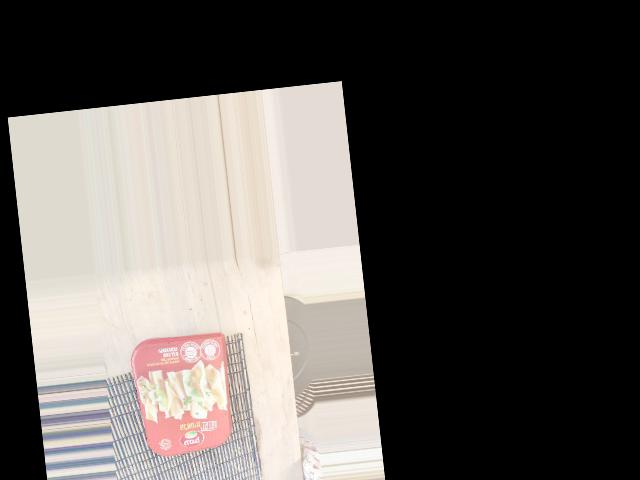cheese: (105, 414, 247, 480)
